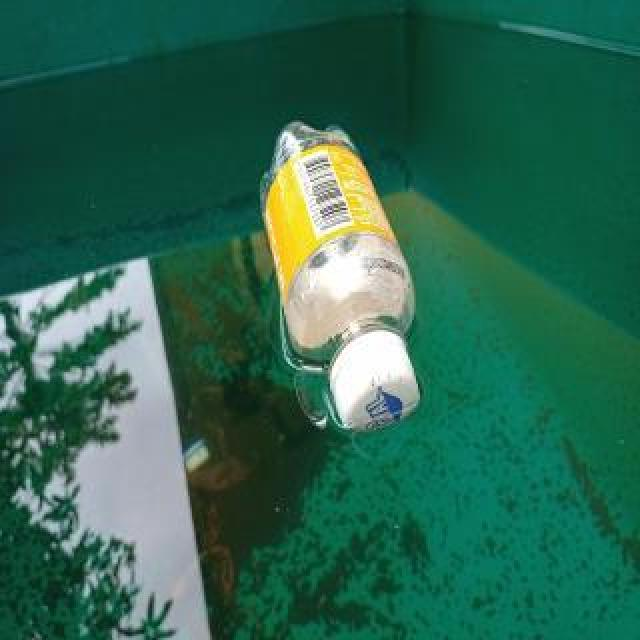bottle: (257, 116, 423, 434)
